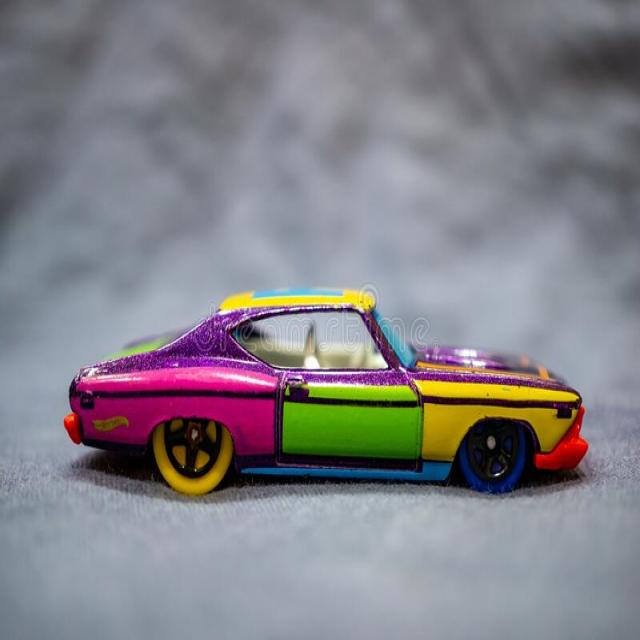Car: (63, 285, 589, 497)
